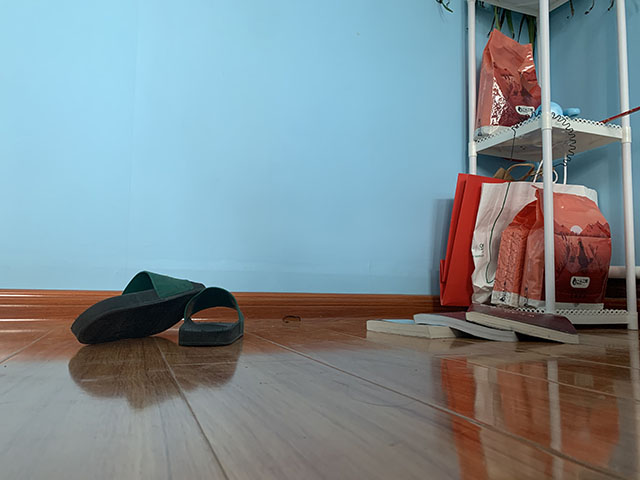book: (365, 302, 581, 347)
slippers: (69, 259, 205, 348), (179, 287, 247, 346)
